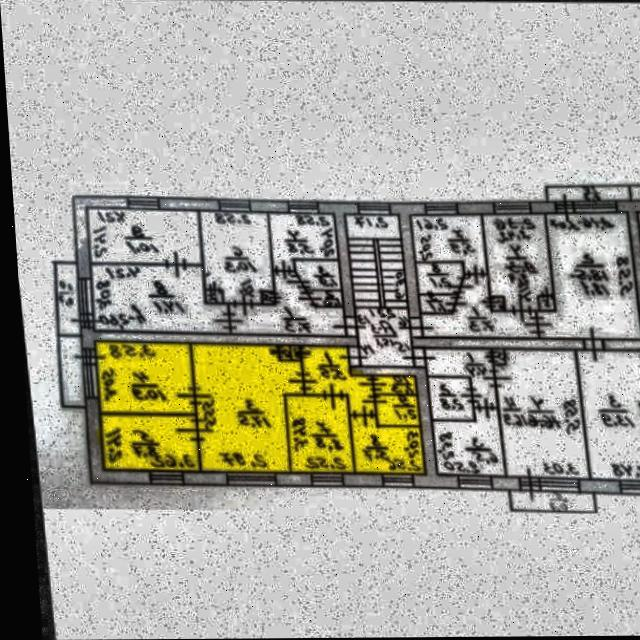room: (187, 344, 301, 472), (490, 342, 585, 486), (534, 211, 640, 337), (421, 341, 501, 481), (343, 209, 411, 371), (89, 265, 227, 332), (575, 350, 640, 478), (481, 208, 551, 313), (198, 207, 272, 306), (227, 272, 343, 335), (419, 274, 535, 336), (93, 343, 193, 414), (85, 208, 201, 265), (281, 389, 350, 478), (98, 415, 196, 471), (299, 346, 372, 414), (266, 207, 336, 270), (410, 214, 484, 272), (347, 415, 421, 472), (425, 373, 470, 423), (53, 263, 78, 336), (506, 490, 592, 511), (57, 336, 82, 407), (415, 262, 461, 292), (546, 184, 628, 200), (293, 260, 338, 289), (373, 395, 416, 424), (370, 376, 414, 393), (417, 294, 454, 311), (305, 290, 340, 306), (537, 294, 551, 310), (490, 347, 502, 364), (489, 295, 502, 310), (204, 290, 220, 301), (260, 291, 272, 304), (288, 345, 298, 360), (277, 344, 287, 359)
